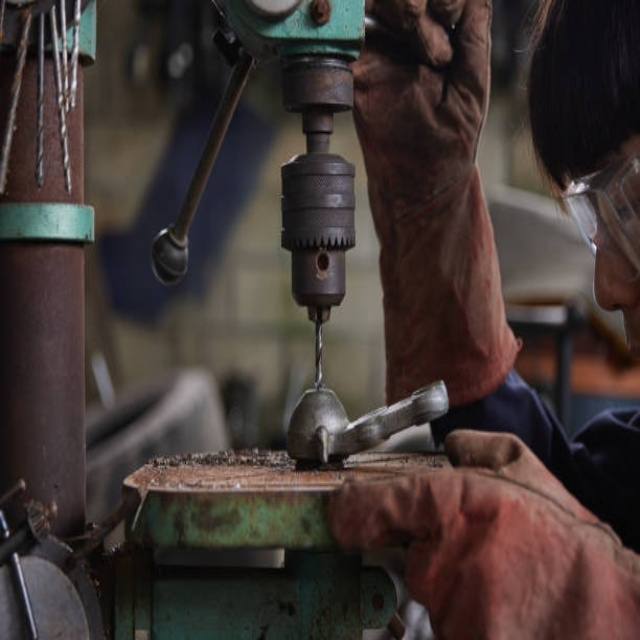Gafas: (559, 152, 638, 312)
Guantes: (348, 0, 515, 417), (326, 425, 634, 632)
